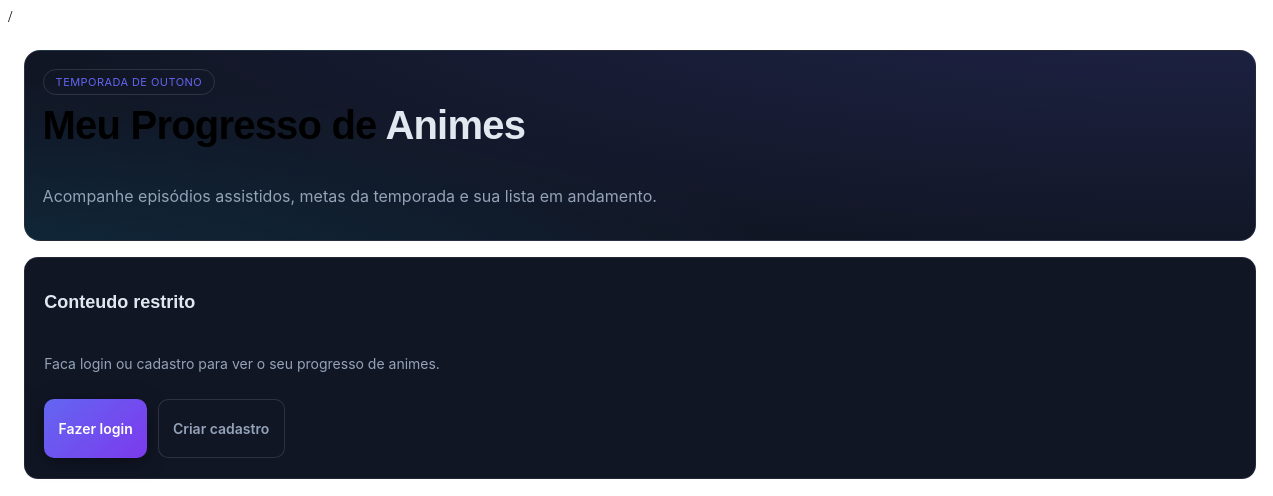
Scenario: MeuProgresso page › sem sessão exibe gate de autenticação e oculta dados privados
Check: the heading "Conteudo restrito" is shown, box [44, 292, 195, 312]
Click the link "Fazer login".
click(96, 428)  # box [44, 398, 147, 458]
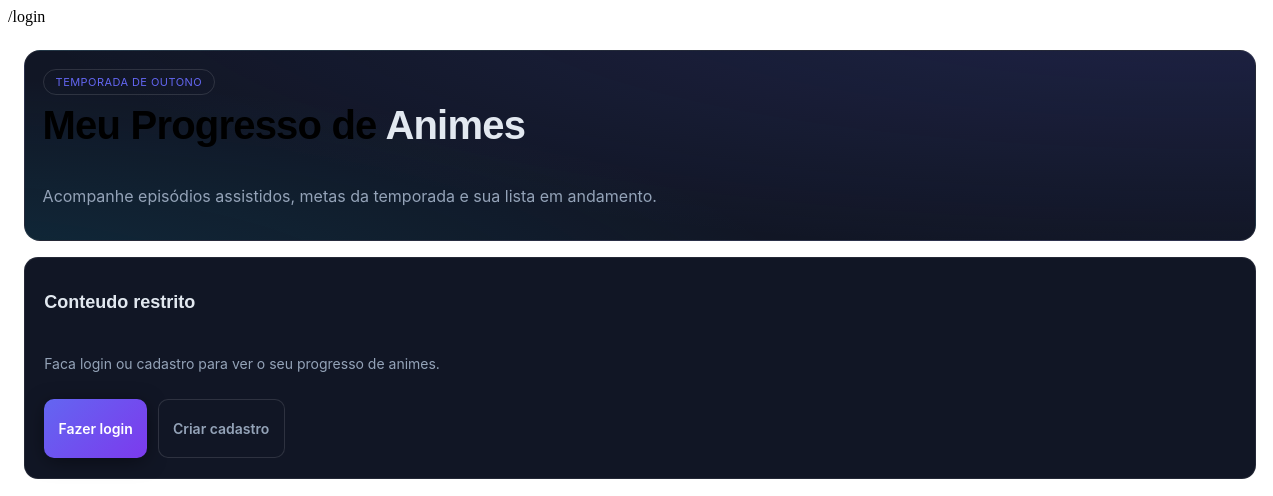
Check: the text with test id "current-path" reads "/login", box [8, 8, 45, 25]
